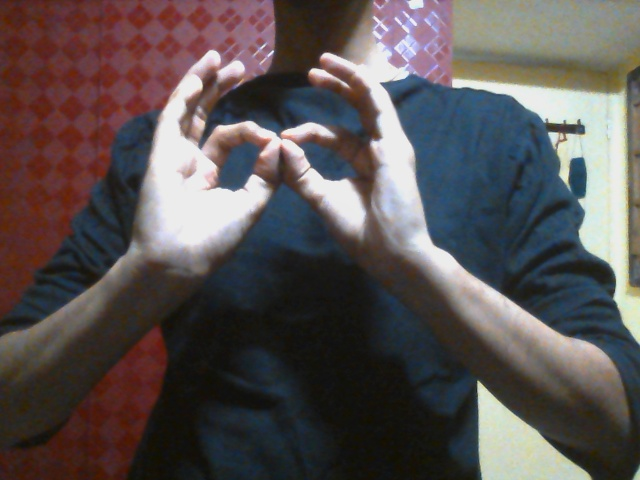B: (129, 49, 435, 305)
